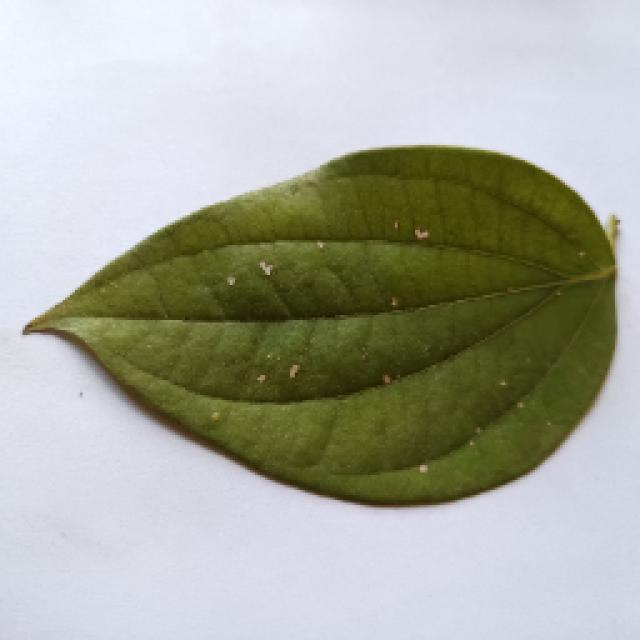pollu-disease: (25, 148, 613, 500)
